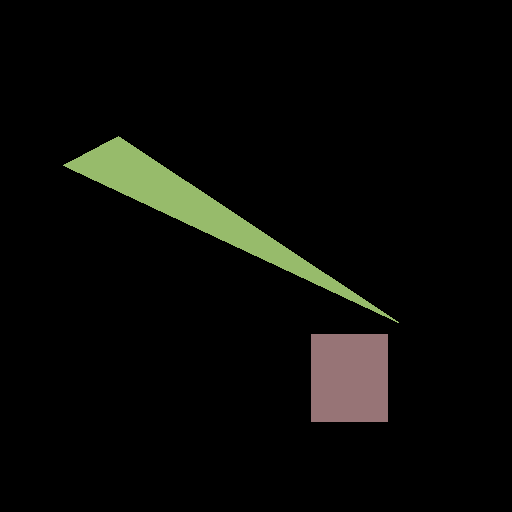rectangle: (311, 334, 387, 421)
triangle: (63, 136, 398, 322)
